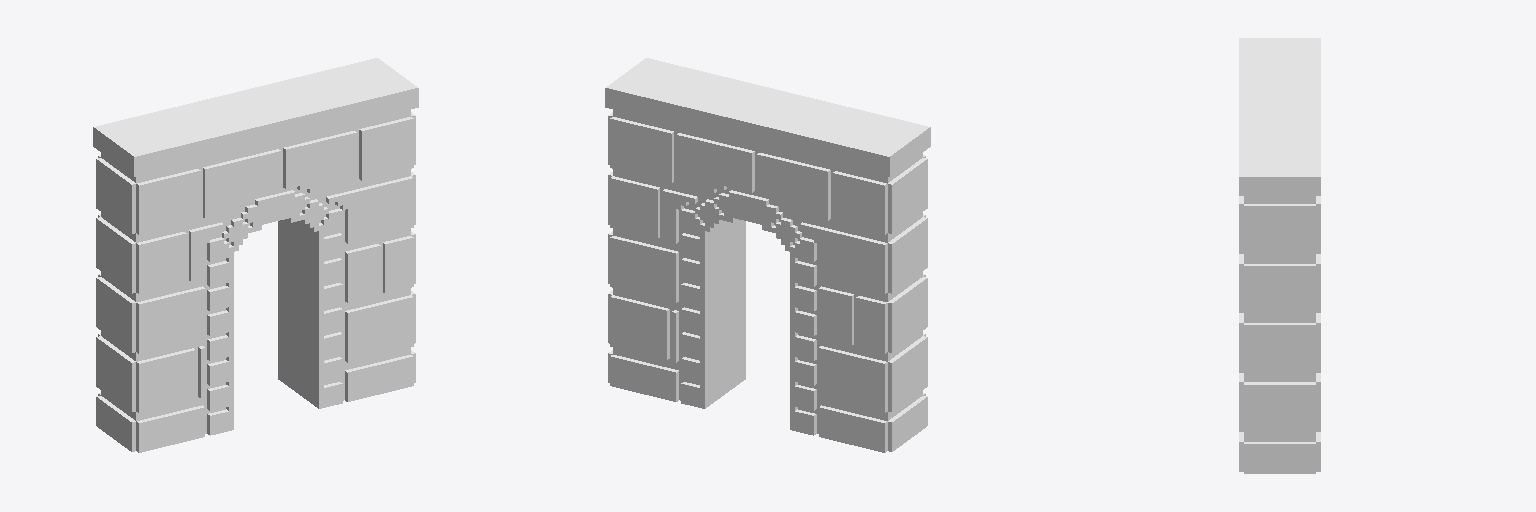
Rendered from WallDoor2.obj.
3 views of the same model, side by side, from view 1: azimuth 30°, elevation 25°; view 2: azimuth 150°, elevation 25°; view 3: azimuth 270°, elevation 25° (orthographic).
Parts seen in each view (by area): view 1: object 1; view 2: object 1; view 3: object 1.
Part boxes in pixels (x1,y1,x2,y2): object 1: (93,58,418,452); object 1: (605,58,930,452); object 1: (1239,38,1320,473).
Size of the model in its own units: 6 by 6 by 1.5.